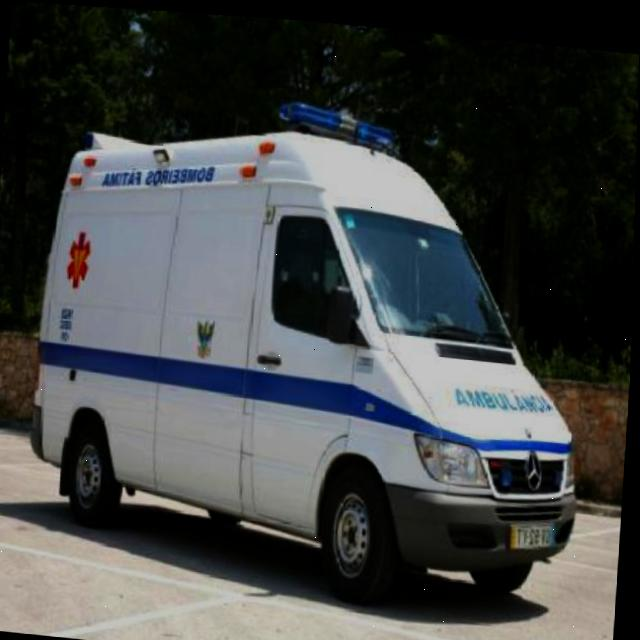emergency: (23, 75, 602, 619)
